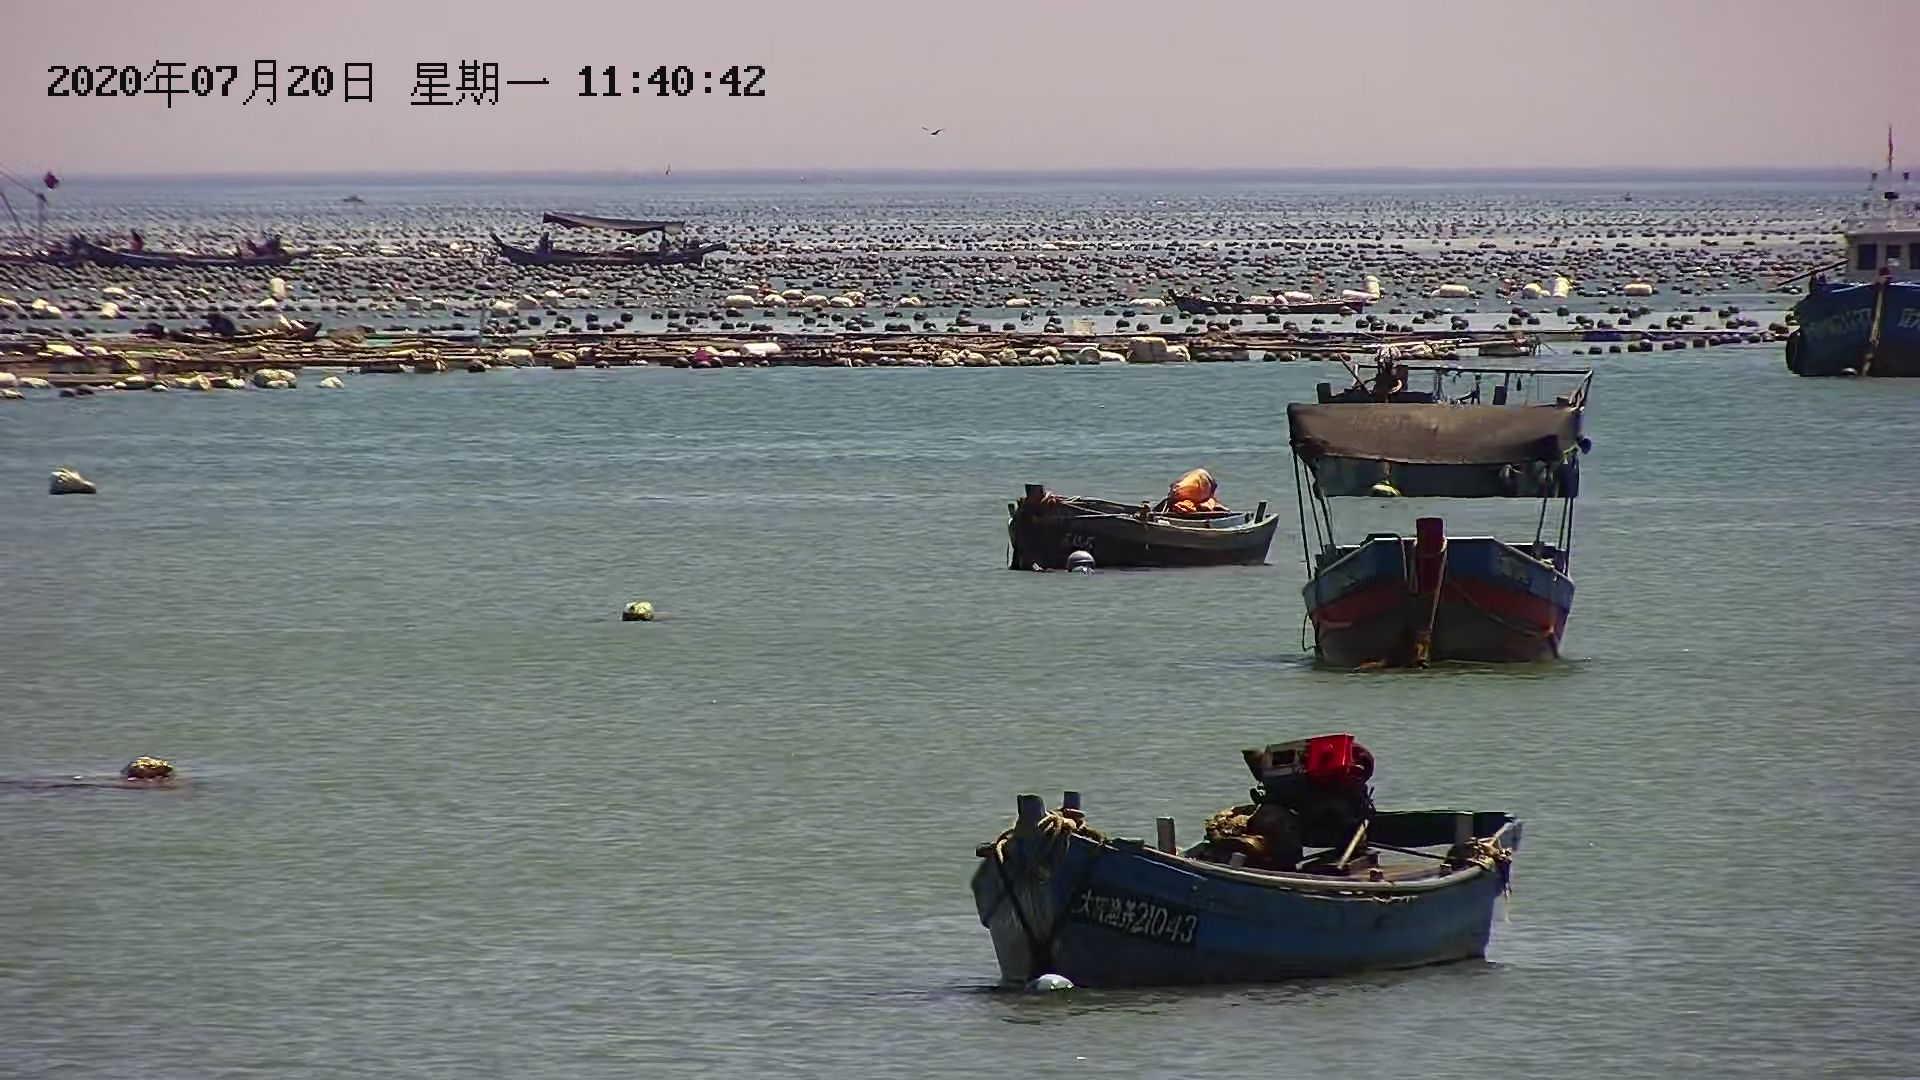boat: (936, 732, 1528, 973), (1284, 508, 1588, 676), (1282, 353, 1607, 497), (1778, 138, 1920, 382), (992, 475, 1282, 576), (492, 208, 723, 278), (76, 228, 305, 276)
rubbish: (113, 757, 177, 787), (47, 468, 96, 497), (617, 597, 667, 622)
